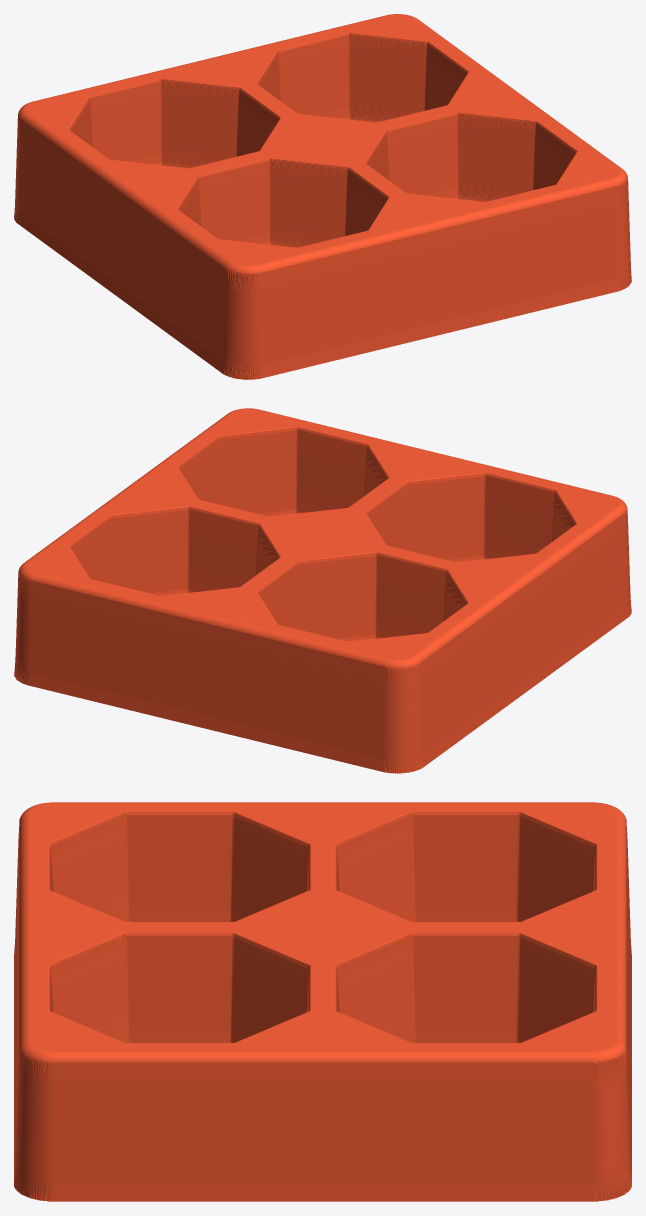
File: mold.glb
The picture shows the model from 3 angles, top to bottom: view 1: azimuth 30°, elevation 25°; view 2: azimuth 150°, elevation 25°; view 3: azimuth 270°, elevation 25°; orthographic projection. The views are drawn at different scales.
Parts seen in each view (by area): view 1: geometry_0; view 2: geometry_0; view 3: geometry_0.
Part boxes in pixels (x1=…): geometry_0: x1=14, y1=14, x2=631, y2=379; geometry_0: x1=14, y1=408, x2=631, y2=773; geometry_0: x1=14, y1=802, x2=631, y2=1201.
Size of the model in its own units: 0.1402 by 0.036 by 0.1402.
